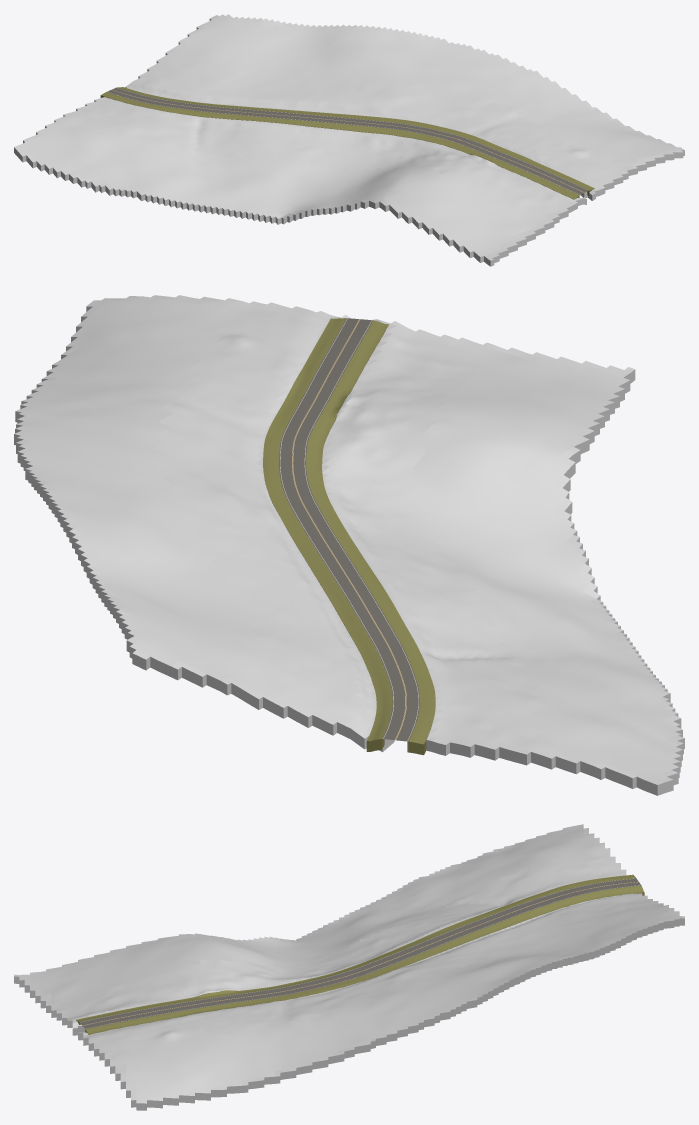
The model's file is conz_152.glb.
3 views of the same model, one above another, from view 1: azimuth 30°, elevation 25°; view 2: azimuth 150°, elevation 25°; view 3: azimuth 270°, elevation 25° (orthographic). The views are drawn at different scales.
Visible parts, largest first — view 1: terrain152, road152, verge152L, verge152R; view 2: terrain152, road152, verge152R, verge152L, paint_white152, paint_yellow152; view 3: terrain152, road152, verge152R, verge152L, paint_white152, paint_yellow152.
Boxes of the visible parts, box(x1,y1,x2,y2) form: terrain152: box(14, 14, 684, 266); road152: box(107, 87, 588, 194); verge152L: box(100, 92, 579, 199); verge152R: box(117, 87, 594, 195); terrain152: box(14, 295, 684, 795); road152: box(279, 318, 419, 741); verge152R: box(263, 318, 392, 751); verge152L: box(306, 320, 435, 755); paint_white152: box(280, 318, 418, 740); paint_yellow152: box(292, 319, 406, 740); terrain152: box(14, 824, 684, 1110); road152: box(79, 878, 641, 1029); verge152R: box(85, 885, 644, 1034); verge152L: box(76, 874, 635, 1024); paint_white152: box(80, 878, 638, 1028); paint_yellow152: box(82, 881, 638, 1025).
Size of the model in its own units: 260 by 39.99 by 252.
